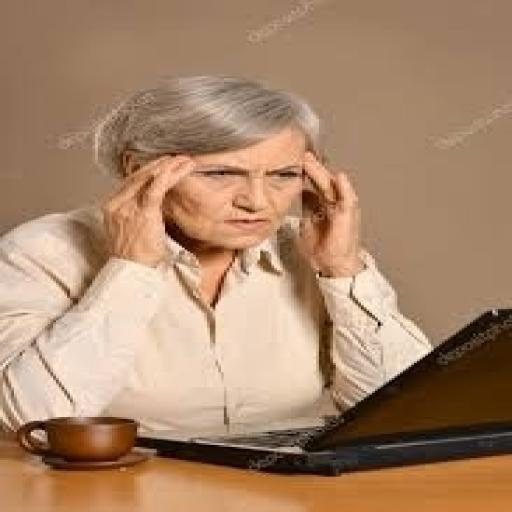using_laptop: (134, 304, 509, 476)
